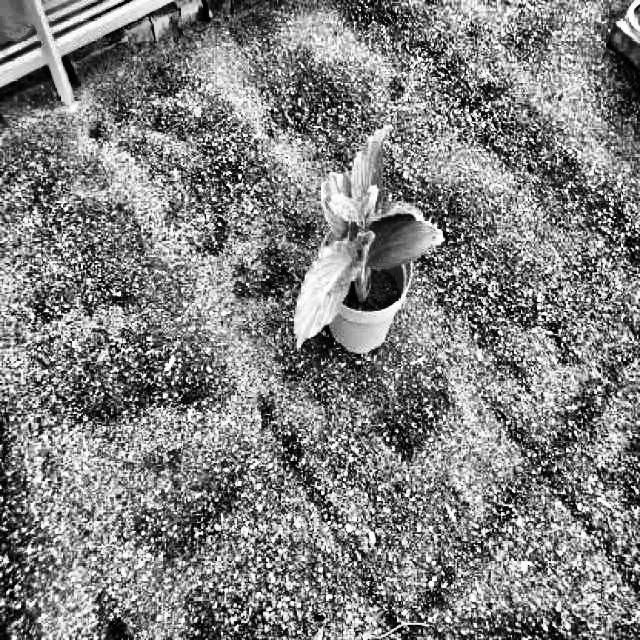plants: (292, 124, 448, 353)
